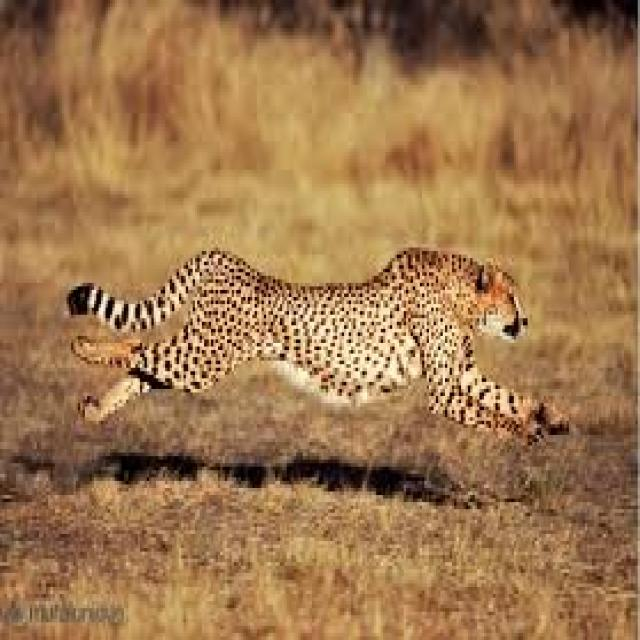Jaguar: (64, 240, 576, 460)
